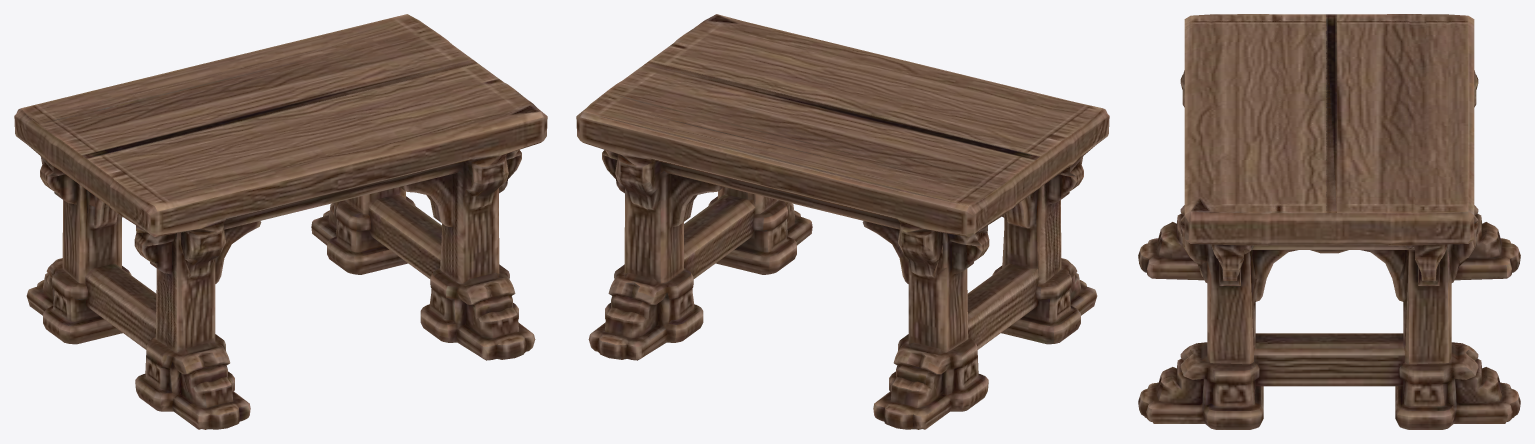
Rendered from table_rustic.glb.
The picture shows the model from 3 angles, left to right: view 1: azimuth 30°, elevation 25°; view 2: azimuth 150°, elevation 25°; view 3: azimuth 270°, elevation 25°; orthographic projection. The views are drawn at different scales.
Bounding box in the file's own units: 1.91 × 0.9863 × 1.51.
1 material, 1 textured.
